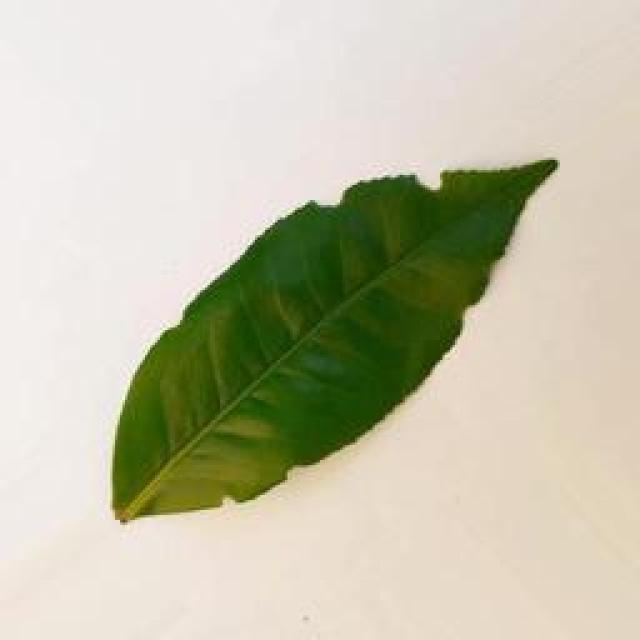Healthy: (110, 154, 559, 526)
